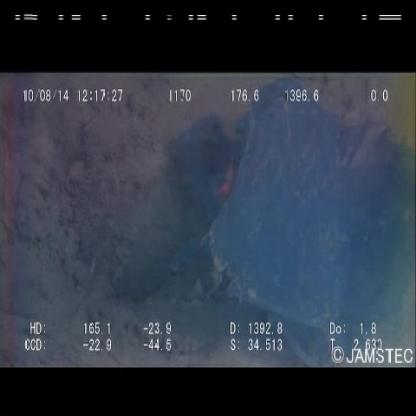Rác: (167, 76, 416, 352)
